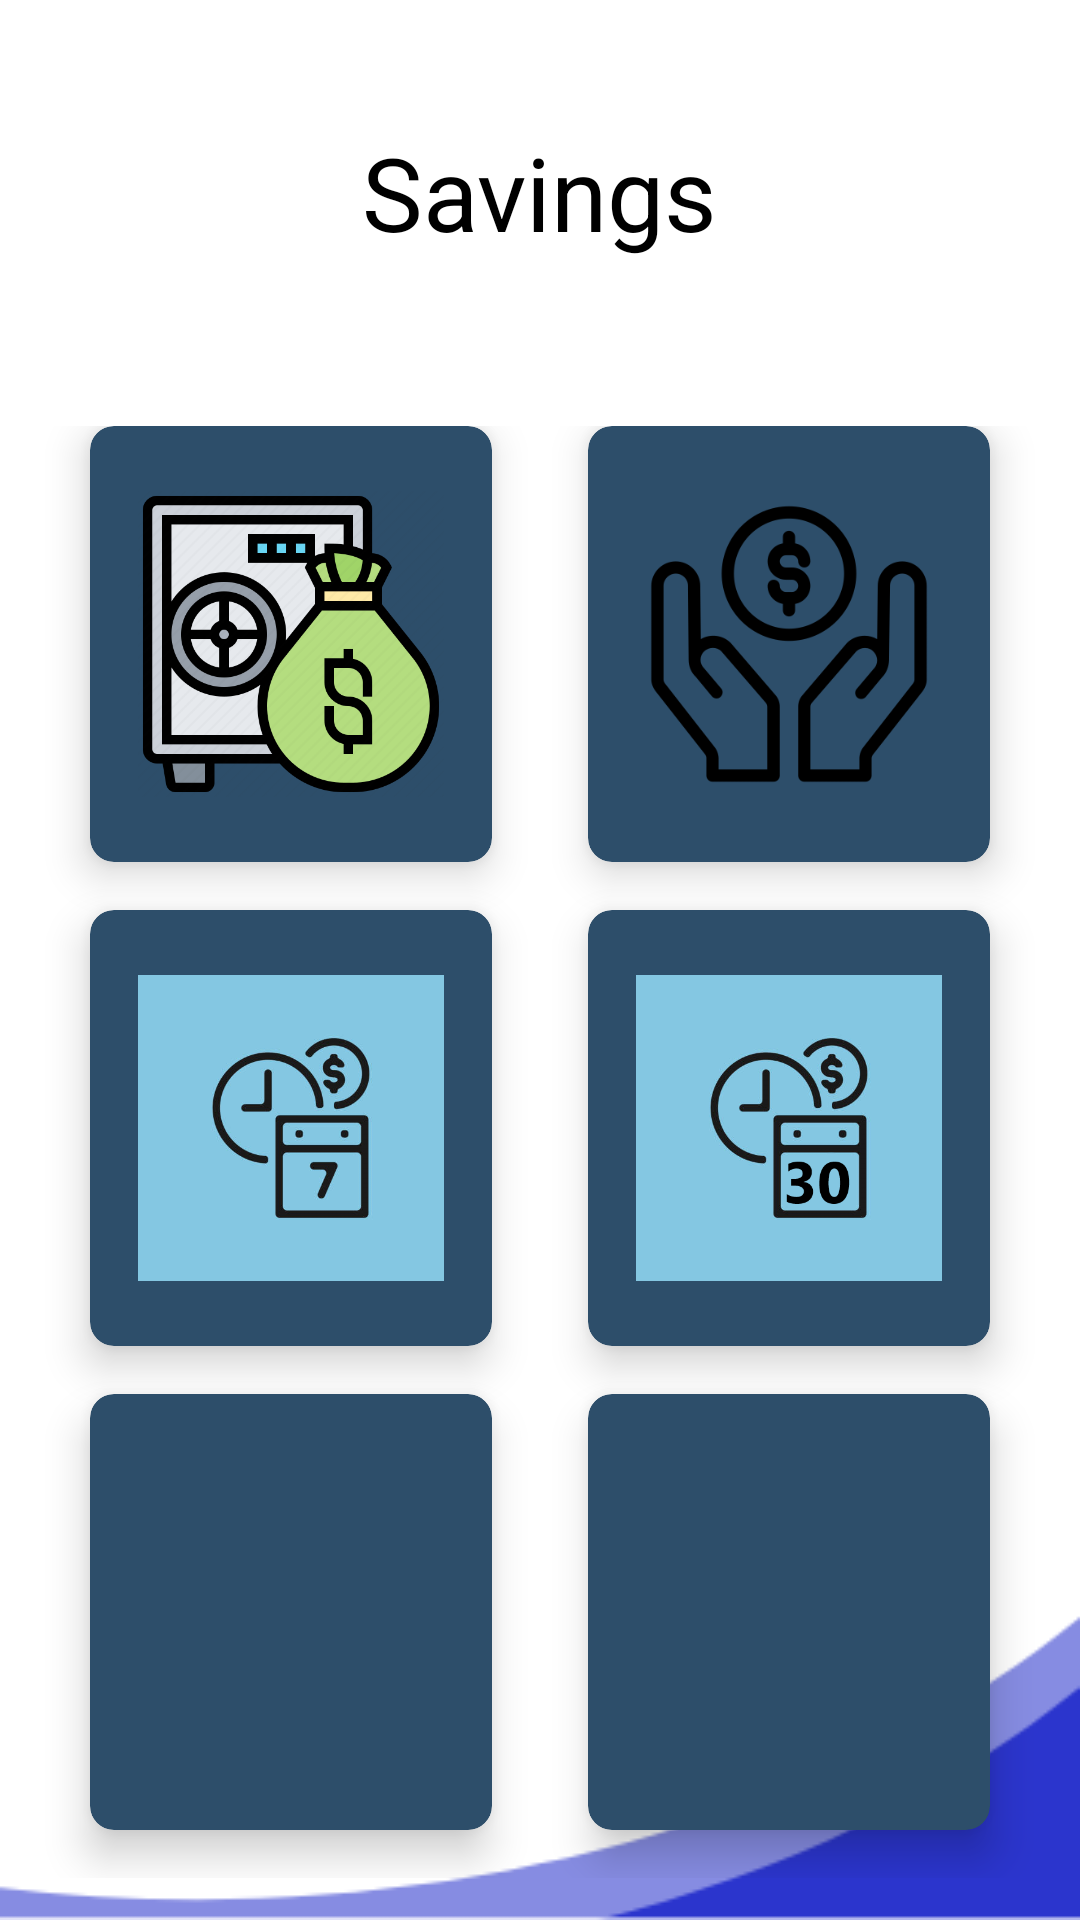

Icons on this 1080×1920 Android screen, each with the point to tap as (x,y):
month spend: (789,1128)
savings vault: (291,644)
week spend: (291,1128)
